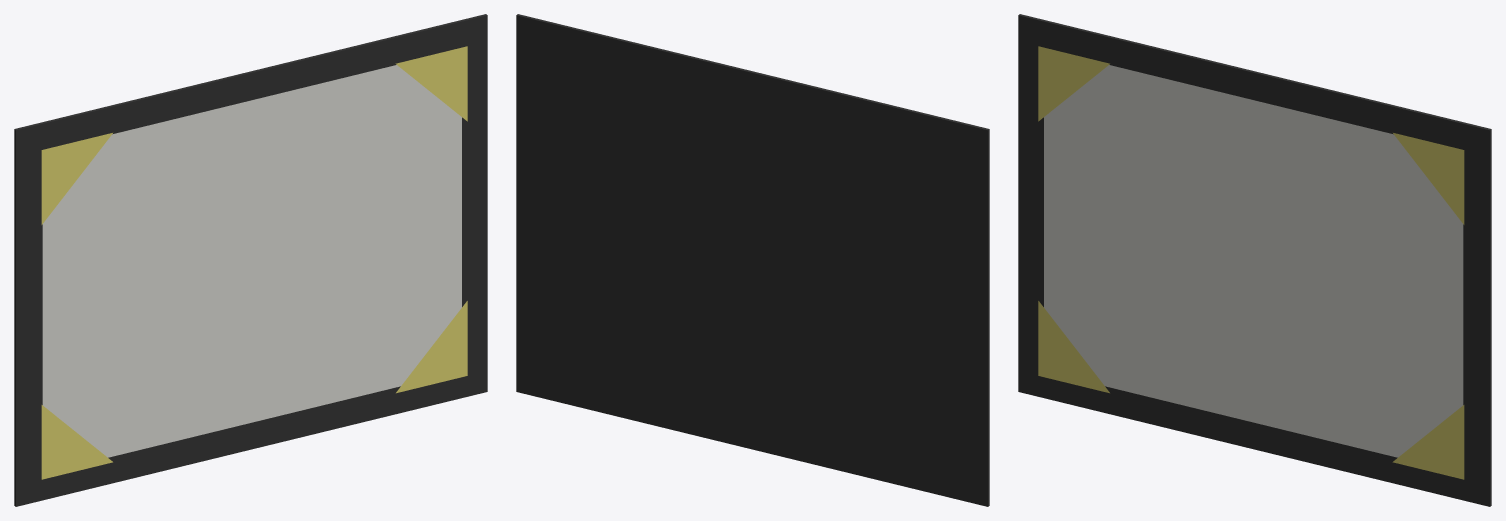
Rendered from diploma.glb.
The picture shows the model from 3 angles, left to right: view 1: azimuth 30°, elevation 25°; view 2: azimuth 150°, elevation 25°; view 3: azimuth 330°, elevation 25°; orthographic projection.
Visible parts, largest first — view 1: diploma; view 2: diploma; view 3: diploma.
Boxes of the visible parts, x1=… form: diploma: x1=14, y1=14, x2=487, y2=506; diploma: x1=516, y1=14, x2=989, y2=506; diploma: x1=1018, y1=14, x2=1491, y2=506.
Size of the model in its own units: 0.6545 by 0.4995 by 0.0106.
